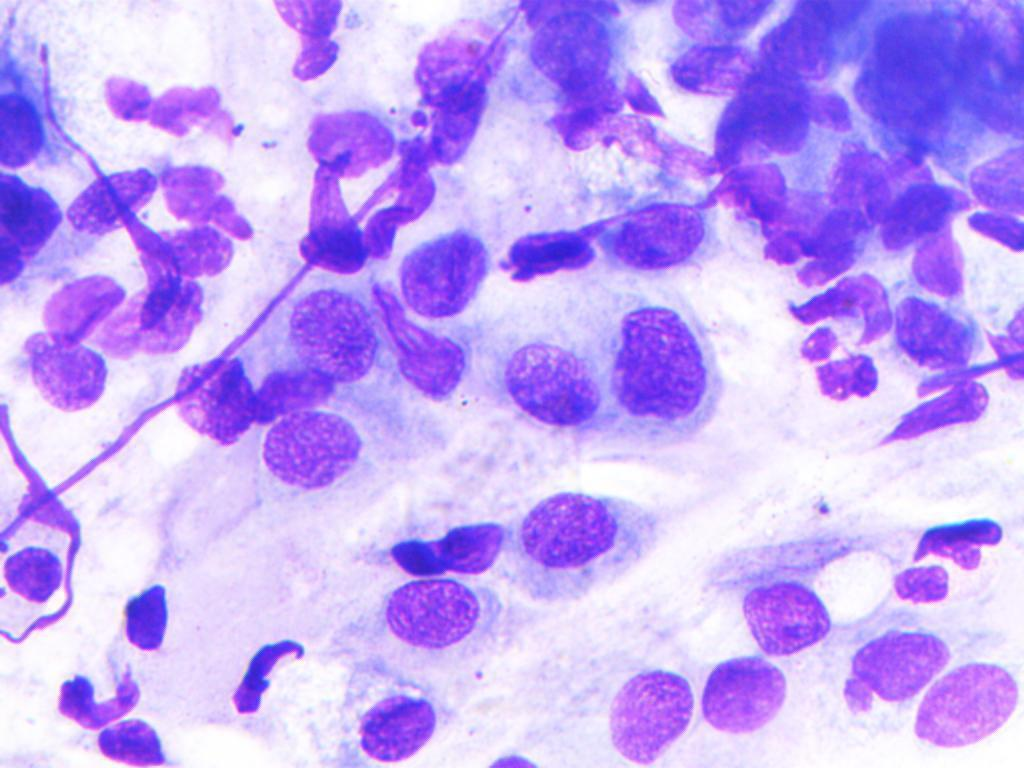artifact: (543, 88, 718, 187), (411, 28, 503, 168), (99, 56, 247, 141), (760, 188, 877, 287), (370, 293, 473, 404), (384, 509, 518, 589), (858, 382, 999, 452), (286, 150, 360, 283), (258, 0, 372, 83), (156, 166, 280, 242), (768, 267, 892, 342), (351, 161, 436, 260), (901, 504, 1019, 573), (229, 636, 317, 716), (50, 671, 151, 728), (950, 132, 1024, 208), (966, 209, 1024, 251)
epithelial: (591, 283, 736, 463), (251, 409, 457, 512), (341, 574, 507, 693), (505, 482, 664, 602), (490, 331, 600, 439), (713, 561, 835, 653), (602, 192, 719, 287), (910, 662, 1019, 761), (851, 616, 956, 717), (293, 97, 419, 180), (597, 670, 695, 768), (514, 11, 623, 99), (709, 158, 810, 249), (697, 653, 805, 736), (397, 224, 496, 314), (662, 37, 773, 113), (31, 270, 137, 349), (888, 287, 984, 374), (335, 689, 442, 767), (288, 283, 377, 376), (172, 361, 264, 446), (28, 336, 117, 423), (749, 7, 843, 89), (61, 159, 154, 238), (883, 180, 964, 260), (0, 540, 69, 614)
metaplastic: (853, 9, 993, 153), (0, 170, 72, 283), (506, 222, 602, 293), (0, 82, 58, 169), (122, 571, 178, 657), (96, 712, 174, 768)
neutrophil: (793, 318, 889, 418)
